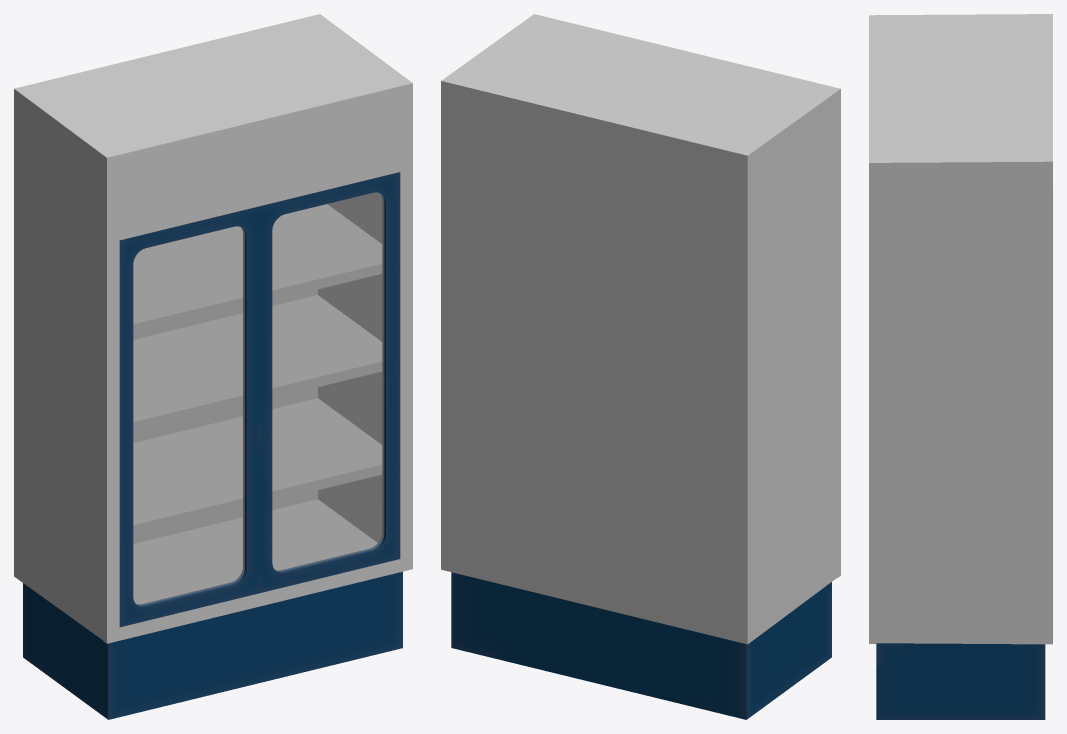
Rendered from Cupboard.fbx.
3 views of the same model, side by side, from view 1: azimuth 30°, elevation 25°; view 2: azimuth 150°, elevation 25°; view 3: azimuth 270°, elevation 25° (orthographic).
Visible parts, largest first — view 1: Cupboard1; view 2: Cupboard1; view 3: Cupboard1.
Boxes of the visible parts, x1,y1,x2,y2 form: Cupboard1: (14, 14, 412, 719); Cupboard1: (441, 14, 840, 719); Cupboard1: (869, 14, 1052, 719).
Size of the model in its own units: 103 by 183 by 54.38.
2 materials, 1 textured.
